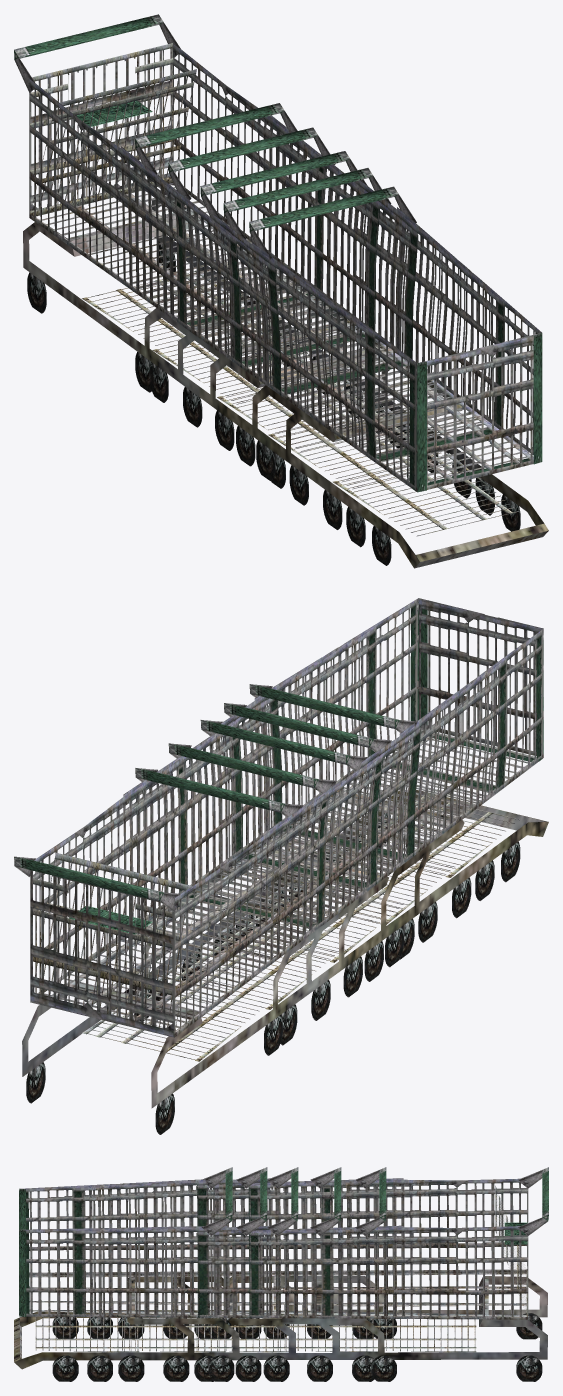
The picture shows the model from 3 angles, top to bottom: view 1: azimuth 30°, elevation 25°; view 2: azimuth 150°, elevation 25°; view 3: azimuth 270°, elevation 25°; orthographic projection. The views are drawn at different scales.
Parts seen in each view (by area): view 1: mesh_1, mesh_0; view 2: mesh_1, mesh_0; view 3: mesh_1, mesh_0.
Part boxes in pixels (left/top/right/bottom): mesh_1: left=29, top=43, right=541, bottom=491; mesh_0: left=14, top=14, right=548, bottom=568; mesh_1: left=30, top=598, right=543, bottom=1037; mesh_0: left=14, top=602, right=548, bottom=1134; mesh_1: left=20, top=1178, right=528, bottom=1319; mesh_0: left=14, top=1167, right=548, bottom=1381.
Size of the model in its own units: 65.5 by 108 by 309.
2 materials, 2 textured.
